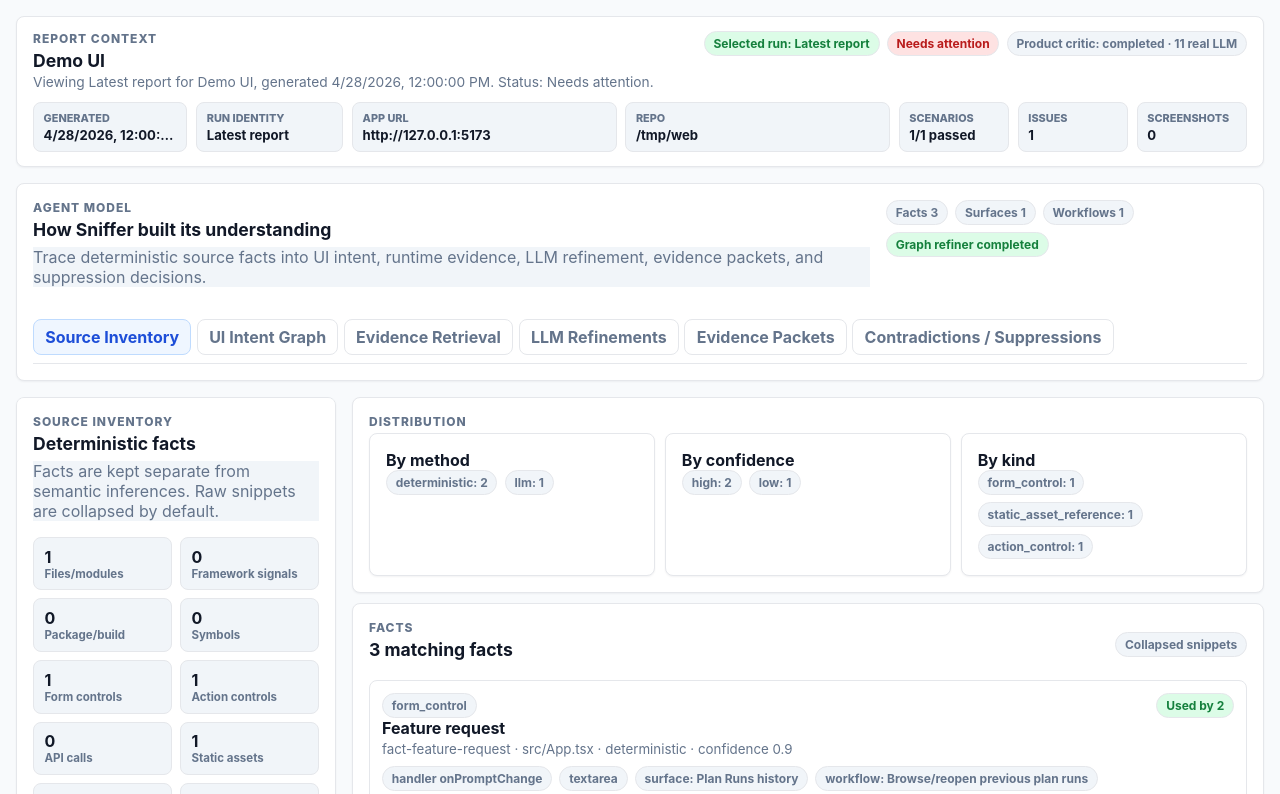
Test case: Agent Model view › shows applied and rejected LLM refinements
Step 1. Click the tab "LLM Refinements" → (599, 337), box top-left (519, 319), bottom-right (679, 356)
(page scrolled)
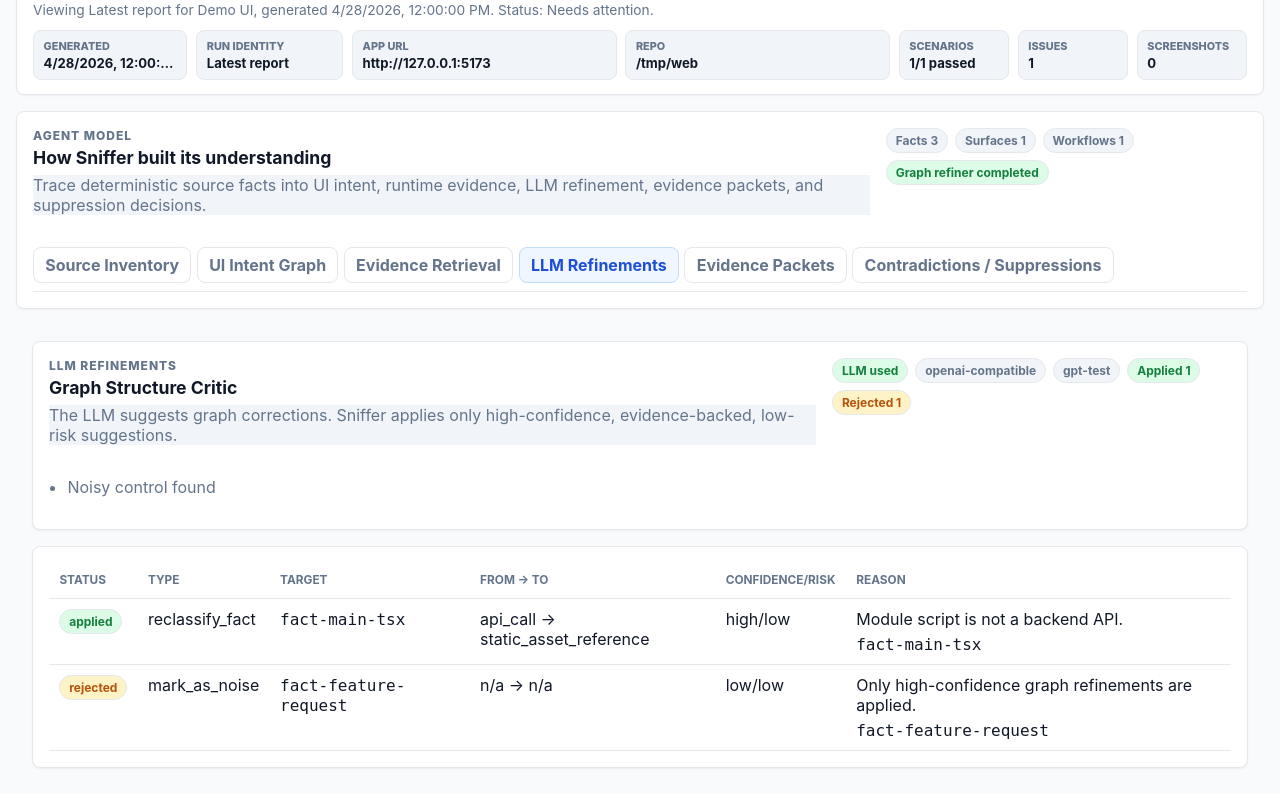
Expected: the heading "Graph Structure Critic" is shown, top-left (49, 377), bottom-right (237, 398)
Expected: the text "Only high-confidence" is shown, top-left (856, 675), bottom-right (1192, 715)
